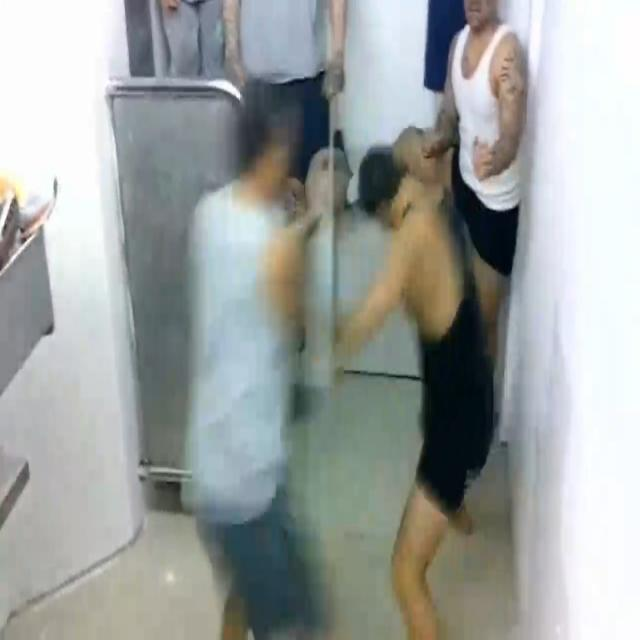fight: (182, 79, 492, 640)
